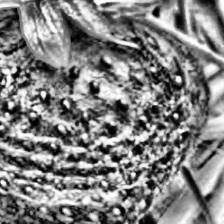Anthracnose Fruit Rot: (0, 15, 197, 206)
